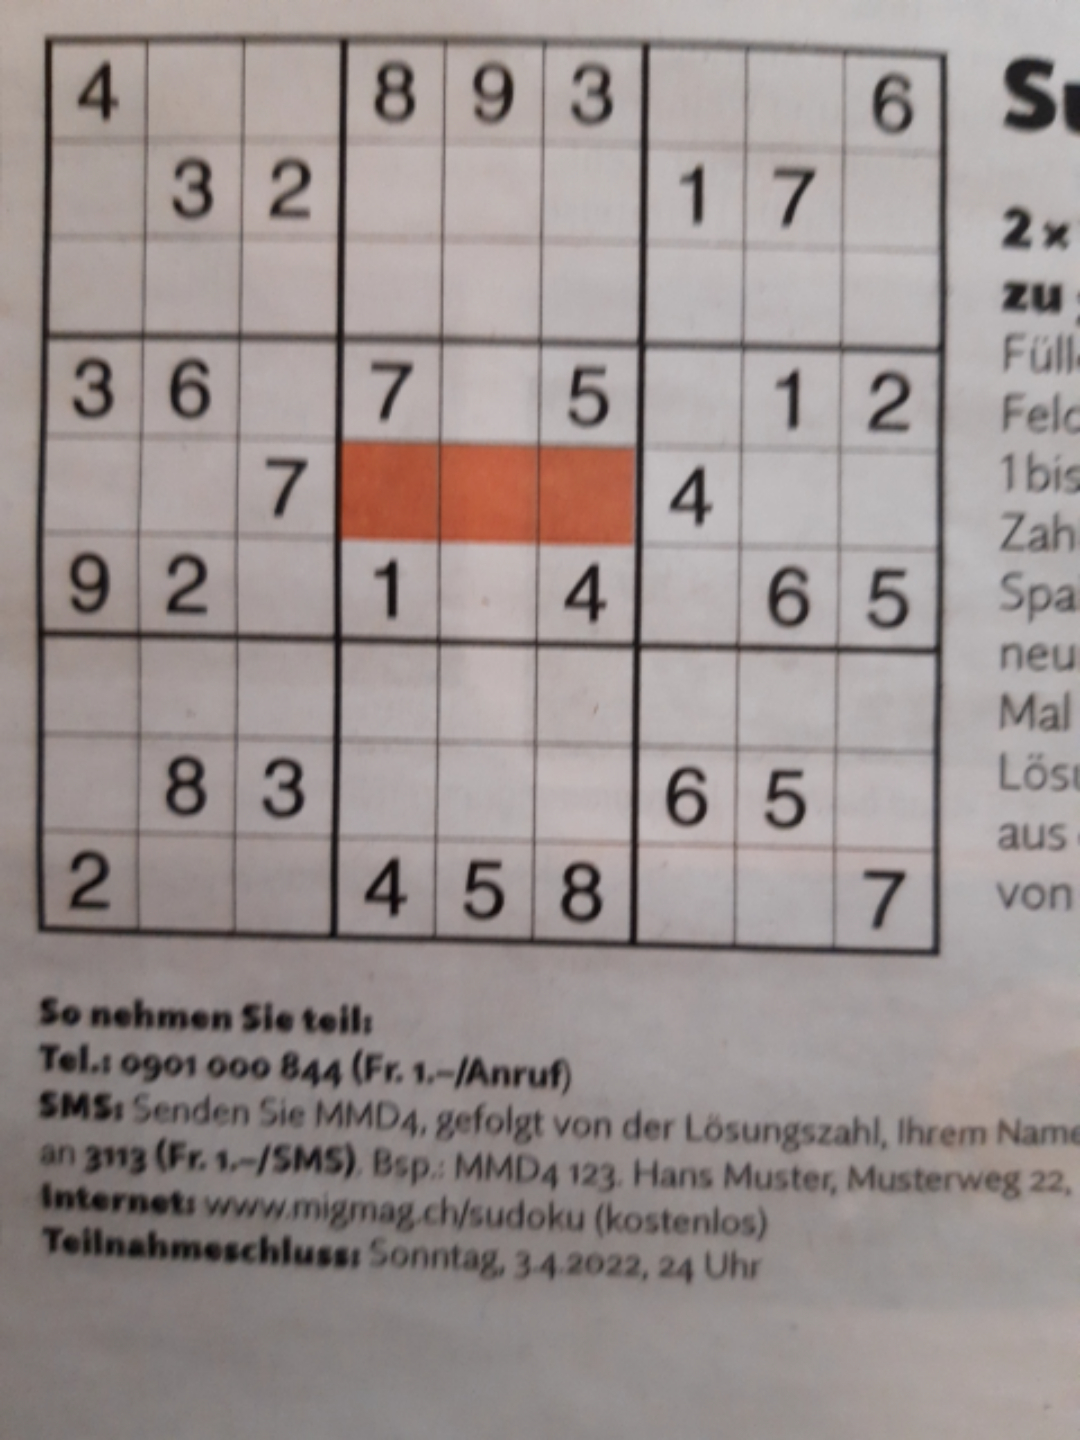sudoku: (38, 28, 944, 960)
